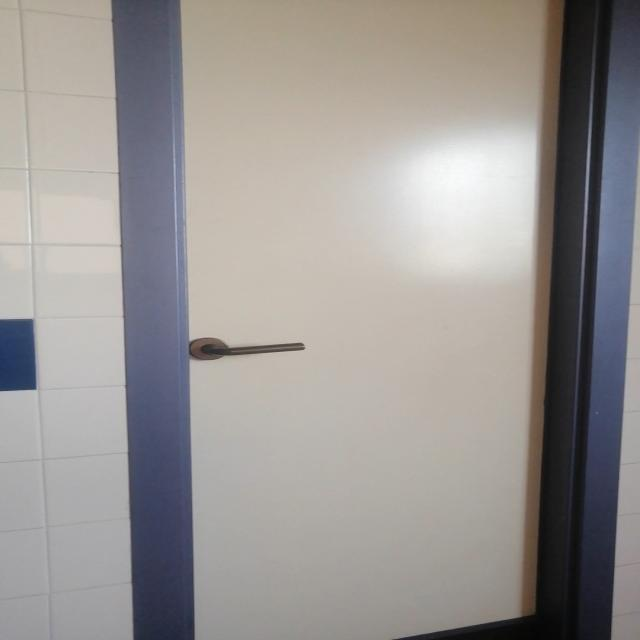door_handle: (195, 342, 310, 357)
